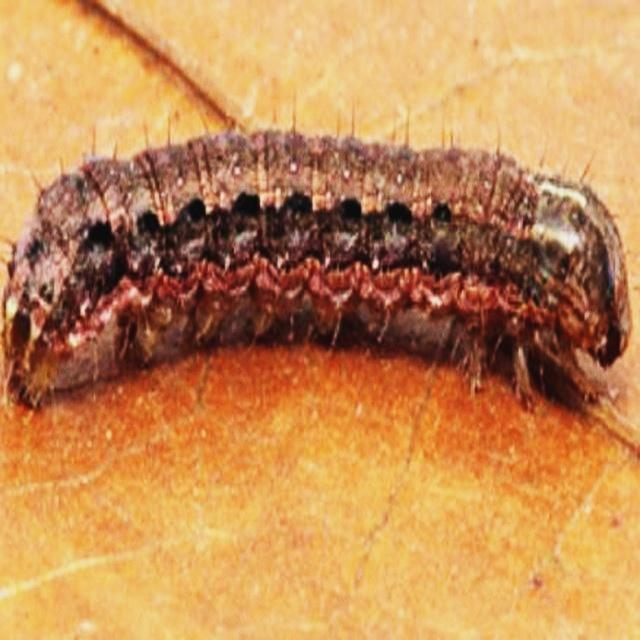gusano_cogollero: (7, 124, 625, 406)
